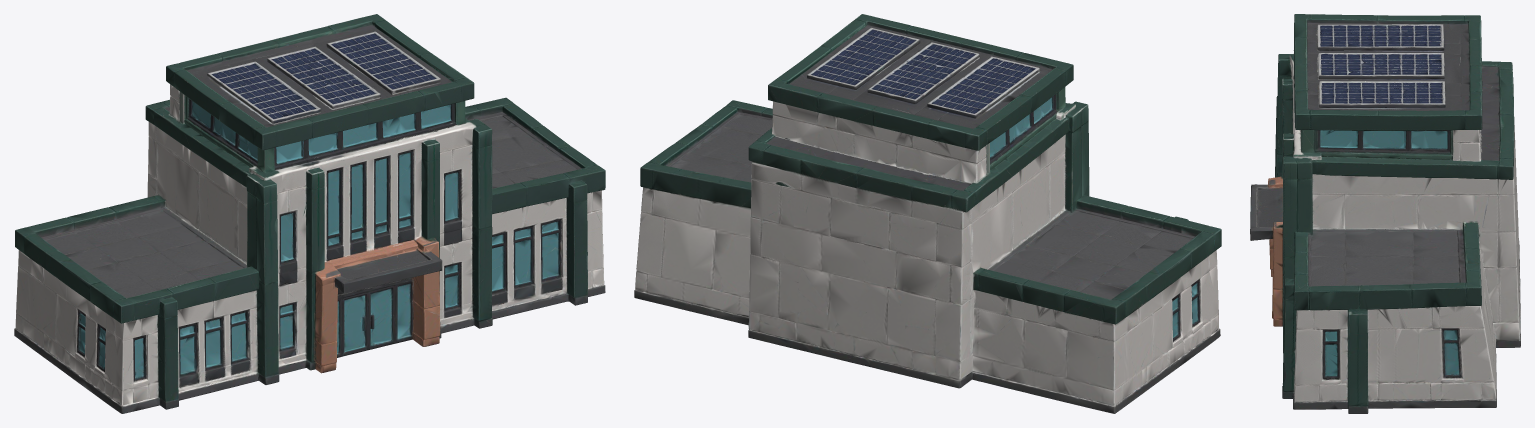
Rendered from carbon-archive.glb.
3 views of the same model, side by side, from view 1: azimuth 30°, elevation 25°; view 2: azimuth 150°, elevation 25°; view 3: azimuth 270°, elevation 25° (orthographic). The views are drawn at different scales.
Size of the model in its own units: 1.9 by 0.8849 by 0.9261.
1 material, 1 textured.
